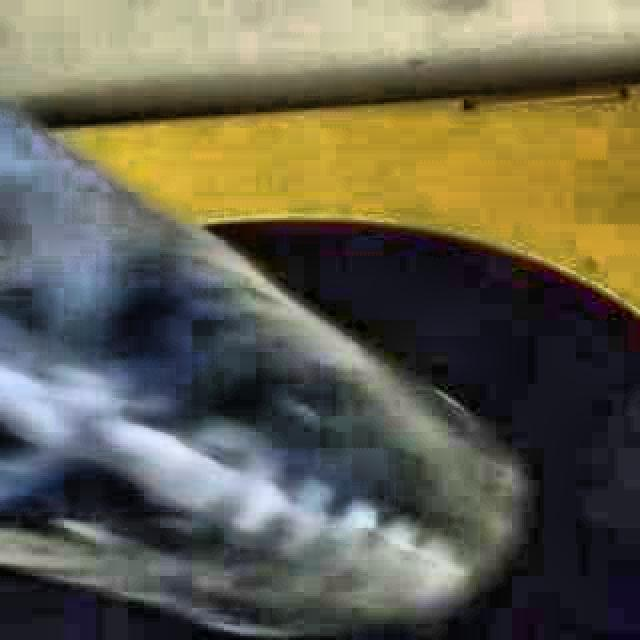plastic: (0, 102, 520, 639)
